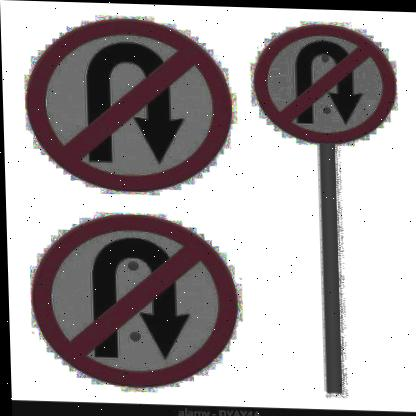No U-turn: (21, 15, 237, 195), (31, 213, 239, 388), (249, 15, 399, 142)
